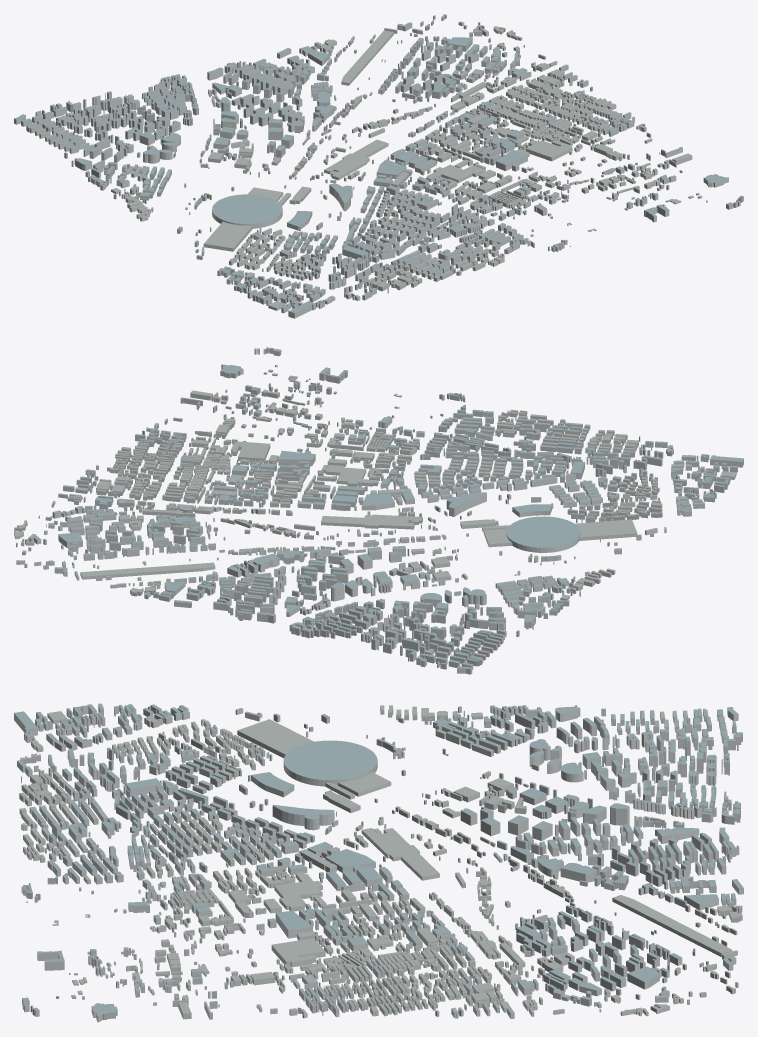
3 views of the same model, one above another, from view 1: azimuth 30°, elevation 25°; view 2: azimuth 150°, elevation 25°; view 3: azimuth 270°, elevation 25° (orthographic). The views are drawn at different scales.
Visible parts, largest first — view 1: 上海全域建筑分块 · mapped building neighborhood; view 2: 上海全域建筑分块 · mapped building neighborhood; view 3: 上海全域建筑分块 · mapped building neighborhood.
Part boxes in pixels (x1,y1,x2,y2): 上海全域建筑分块 · mapped building neighborhood: [14, 14, 743, 318]; 上海全域建筑分块 · mapped building neighborhood: [14, 347, 743, 674]; 上海全域建筑分块 · mapped building neighborhood: [14, 703, 743, 1022].
Bounding box in the file's own units: 2155 × 54.29 × 2125.
